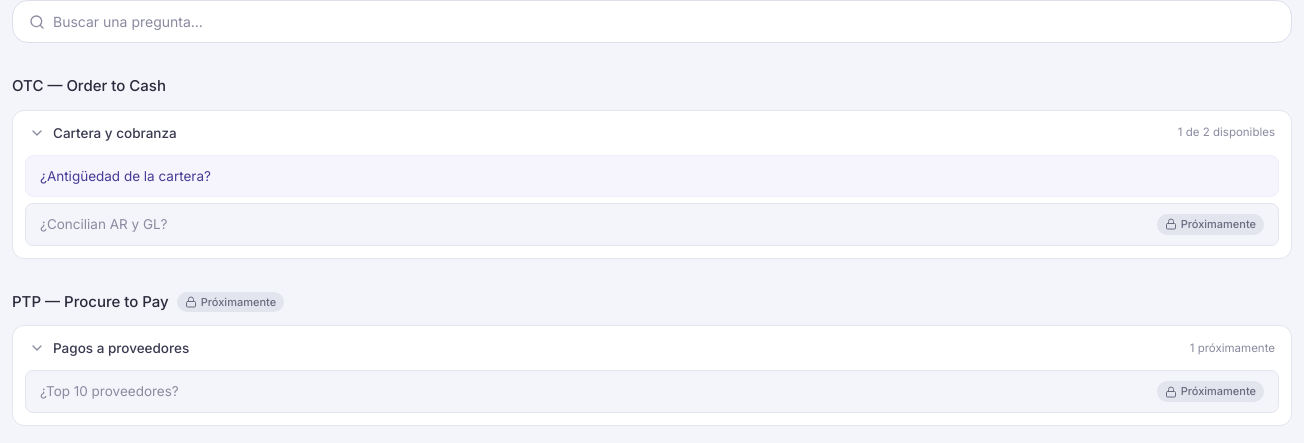
it: CatalogoExplorador › el buscador filtra por texto de la pregunta
Expected: the button "¿Antigüedad de la cartera?" is shown, [25, 155, 1279, 197]
Type "top 10" into the field labelled "Buscar una pregunta". click: (664, 22)
box: [53, 11, 1275, 32]
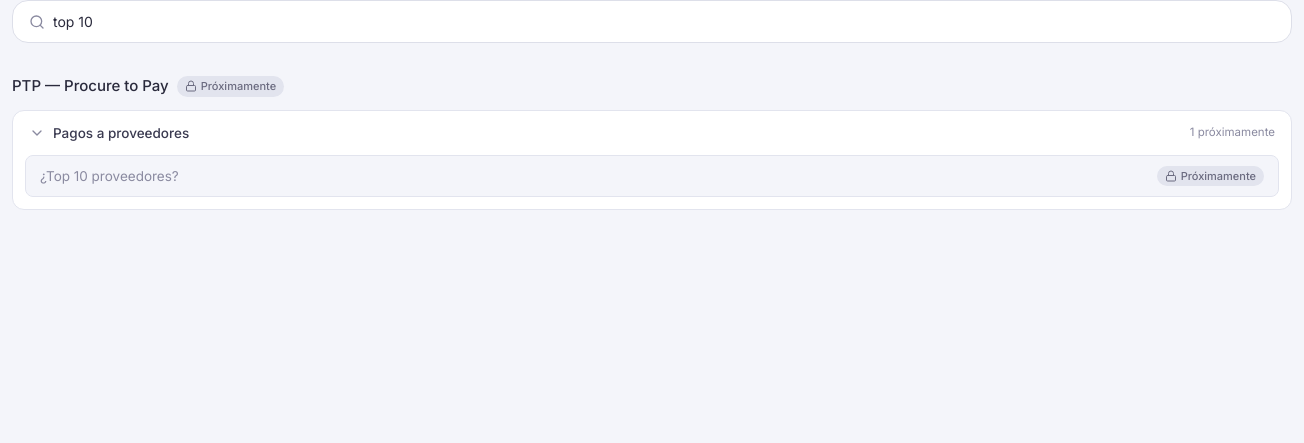
Expected: the text "¿Top 10 proveedores?" is shown, [40, 166, 179, 186]
Now the button "¿Antigüedad de la cartera?" is gone
